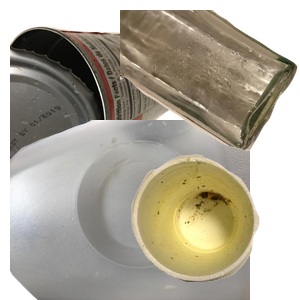glass: (120, 10, 300, 153)
metal: (10, 23, 193, 194)
plastic: (10, 120, 250, 300)
trash: (129, 152, 300, 300)
